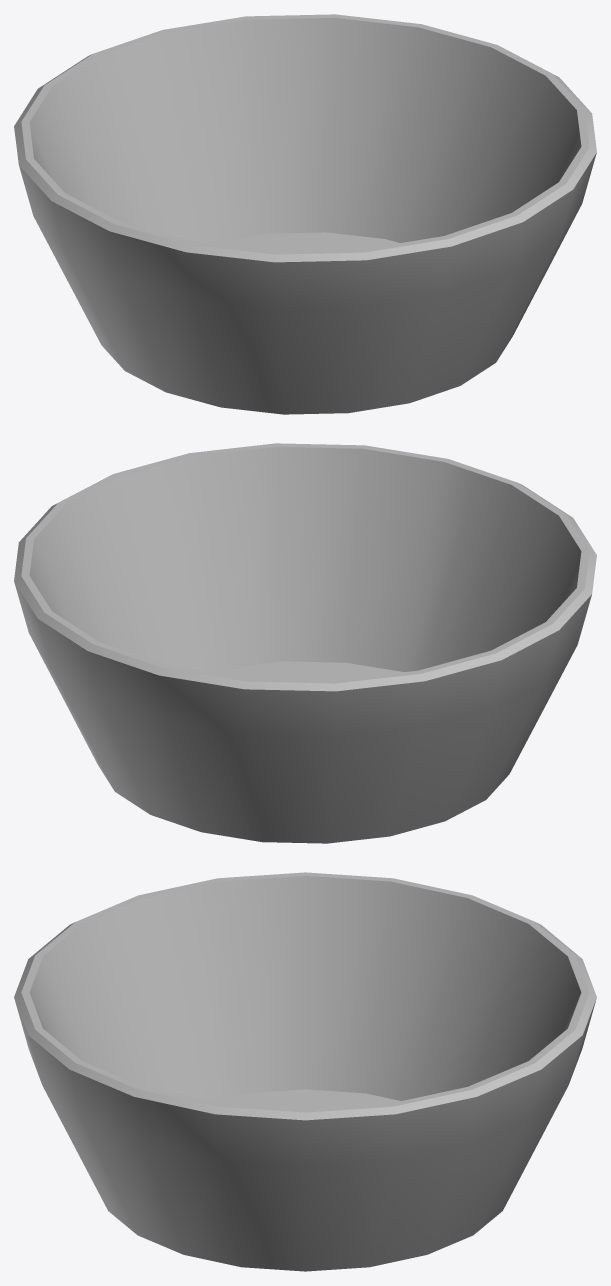
The model's file is big_bowl.fbx.
The picture shows the model from 3 angles, top to bottom: view 1: azimuth 30°, elevation 25°; view 2: azimuth 150°, elevation 25°; view 3: azimuth 270°, elevation 25°; orthographic projection.
Visible parts, largest first — view 1: big_bowl; view 2: big_bowl; view 3: big_bowl.
Boxes of the visible parts, <box> form: big_bowl: <box>14,14,596,414</box>; big_bowl: <box>14,443,596,843</box>; big_bowl: <box>14,872,596,1271</box>.
Size of the model in its own units: 47.64 by 17.26 by 47.64.
